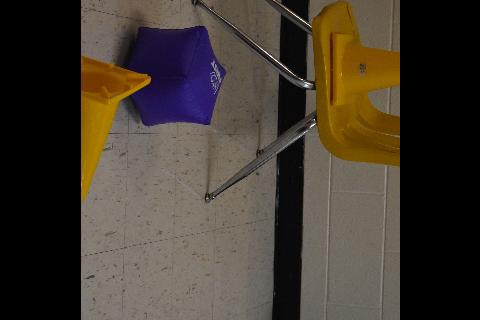cone: (80, 56, 152, 202), (330, 33, 400, 107)
cube: (126, 24, 226, 128)
